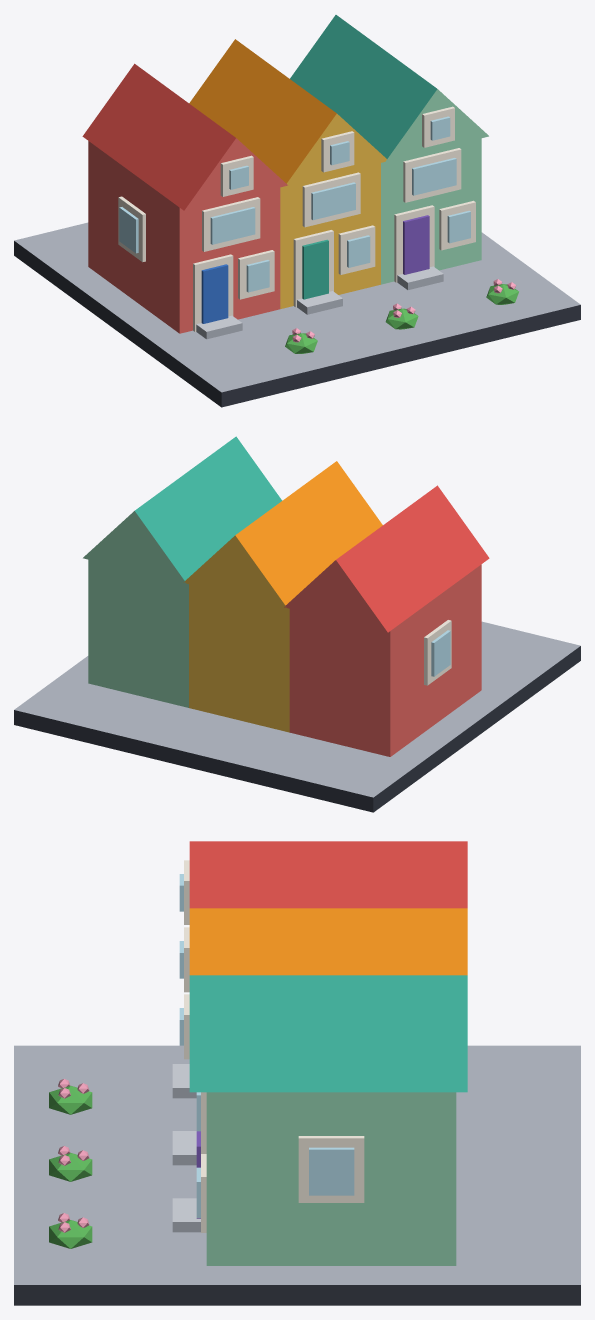
Rendered from house_row.glb.
3 renders of one model, top to bottom at view 1: azimuth 30°, elevation 25°; view 2: azimuth 150°, elevation 25°; view 3: azimuth 270°, elevation 25°, orthographic. The views are drawn at different scales.
Parts seen in each view (by area): view 1: house_row; view 2: house_row; view 3: house_row.
Boxes of the visible parts, <box> form: house_row: <box>14,15,580,407</box>; house_row: <box>14,436,580,812</box>; house_row: <box>14,841,580,1305</box>.
Size of the model in its own units: 1 by 0.54 by 1.
